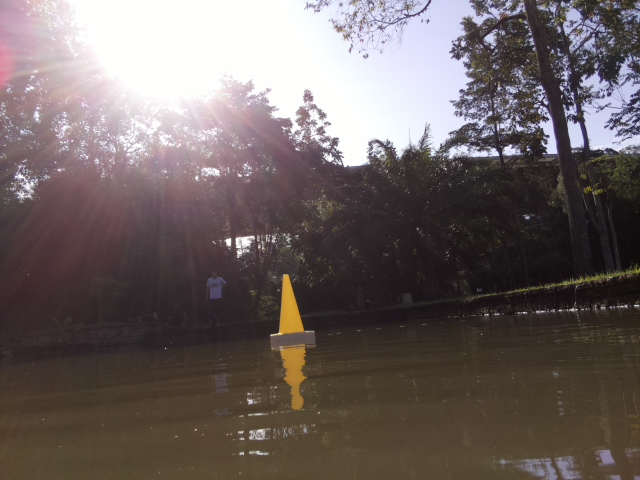checkpoint: (270, 273, 316, 350)
